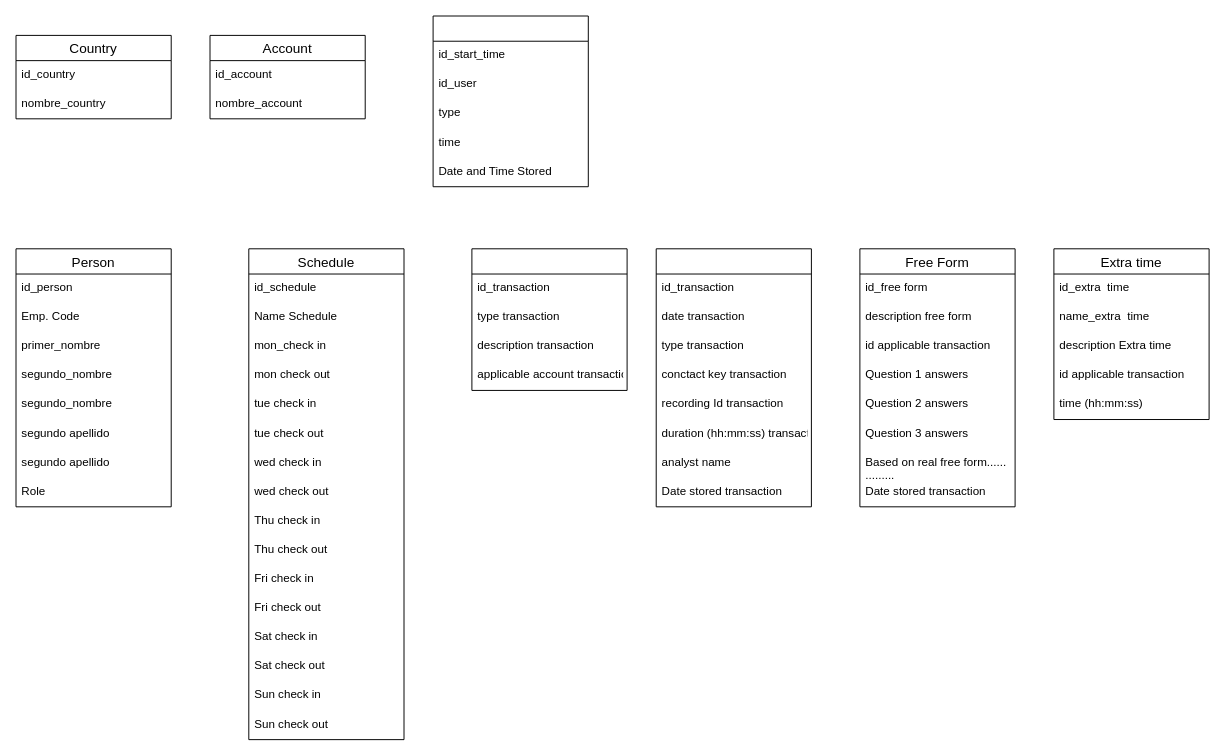
Image size: 1225x756. Some labels were removed from this diagram. The box of each missing label's shape, as (x1, y1, x2, y2) in pixels:
Create Transaction: (655, 248, 811, 507)
Start Time T.M.T: (432, 15, 588, 187)
Transactions Allowed: (471, 248, 627, 390)
